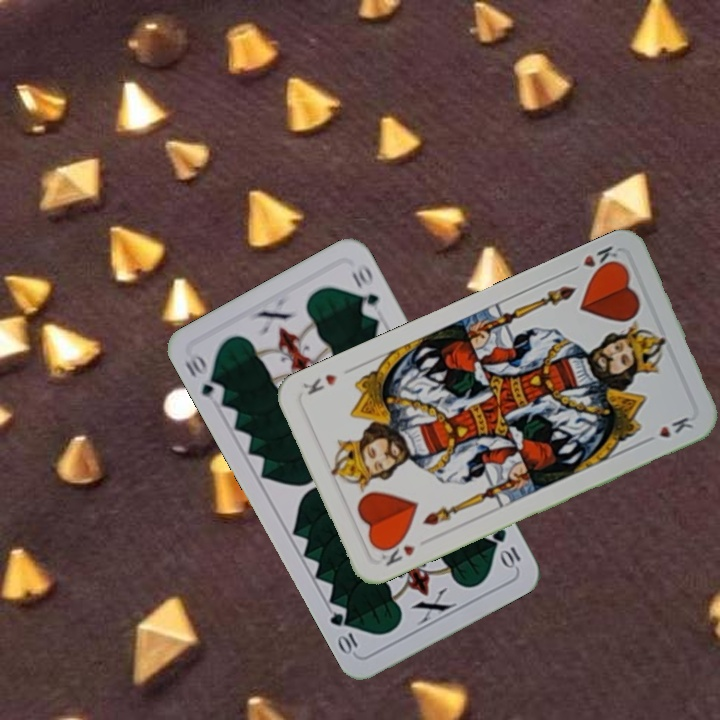G10: (180, 348, 227, 406), (488, 524, 524, 571)
HK: (564, 241, 623, 278), (375, 535, 418, 569)
